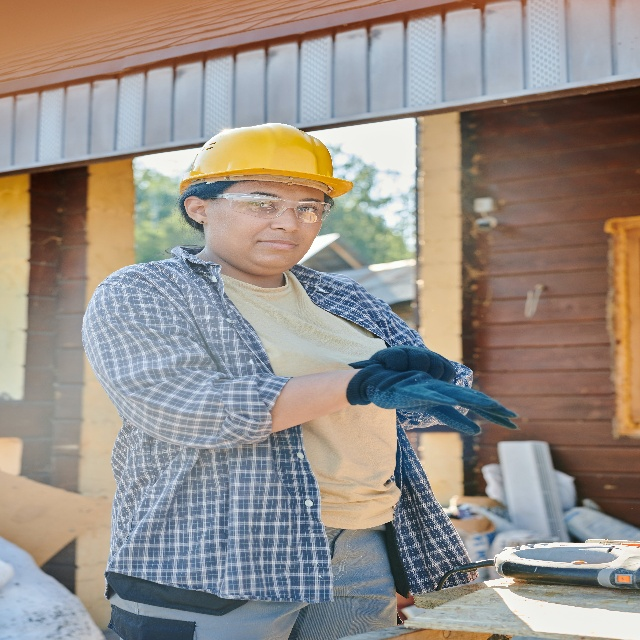Gafas: (211, 194, 329, 223)
Guantes: (349, 361, 519, 437), (370, 335, 456, 380)
